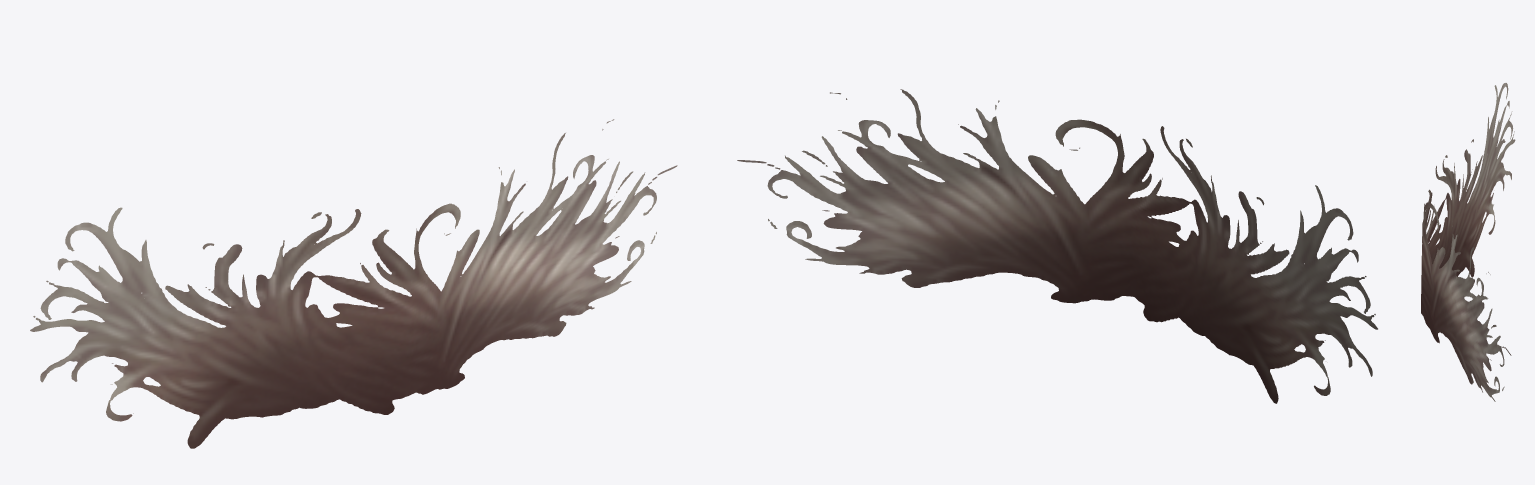
The model's file is Griffin Nest.FBX.
3 views of the same model, side by side, from view 1: azimuth 30°, elevation 25°; view 2: azimuth 150°, elevation 25°; view 3: azimuth 270°, elevation 25° (orthographic). The views are drawn at different scales.
Visible parts, largest first — view 1: Nest; view 2: Nest; view 3: Nest.
Boxes of the visible parts, x1=… form: Nest: x1=30, y1=119, x2=677, y2=448; Nest: x1=737, y1=89, x2=1377, y2=403; Nest: x1=1421, y1=83, x2=1515, y2=401.
Bounding box in the file's own units: 295 × 53.77 × 136.
